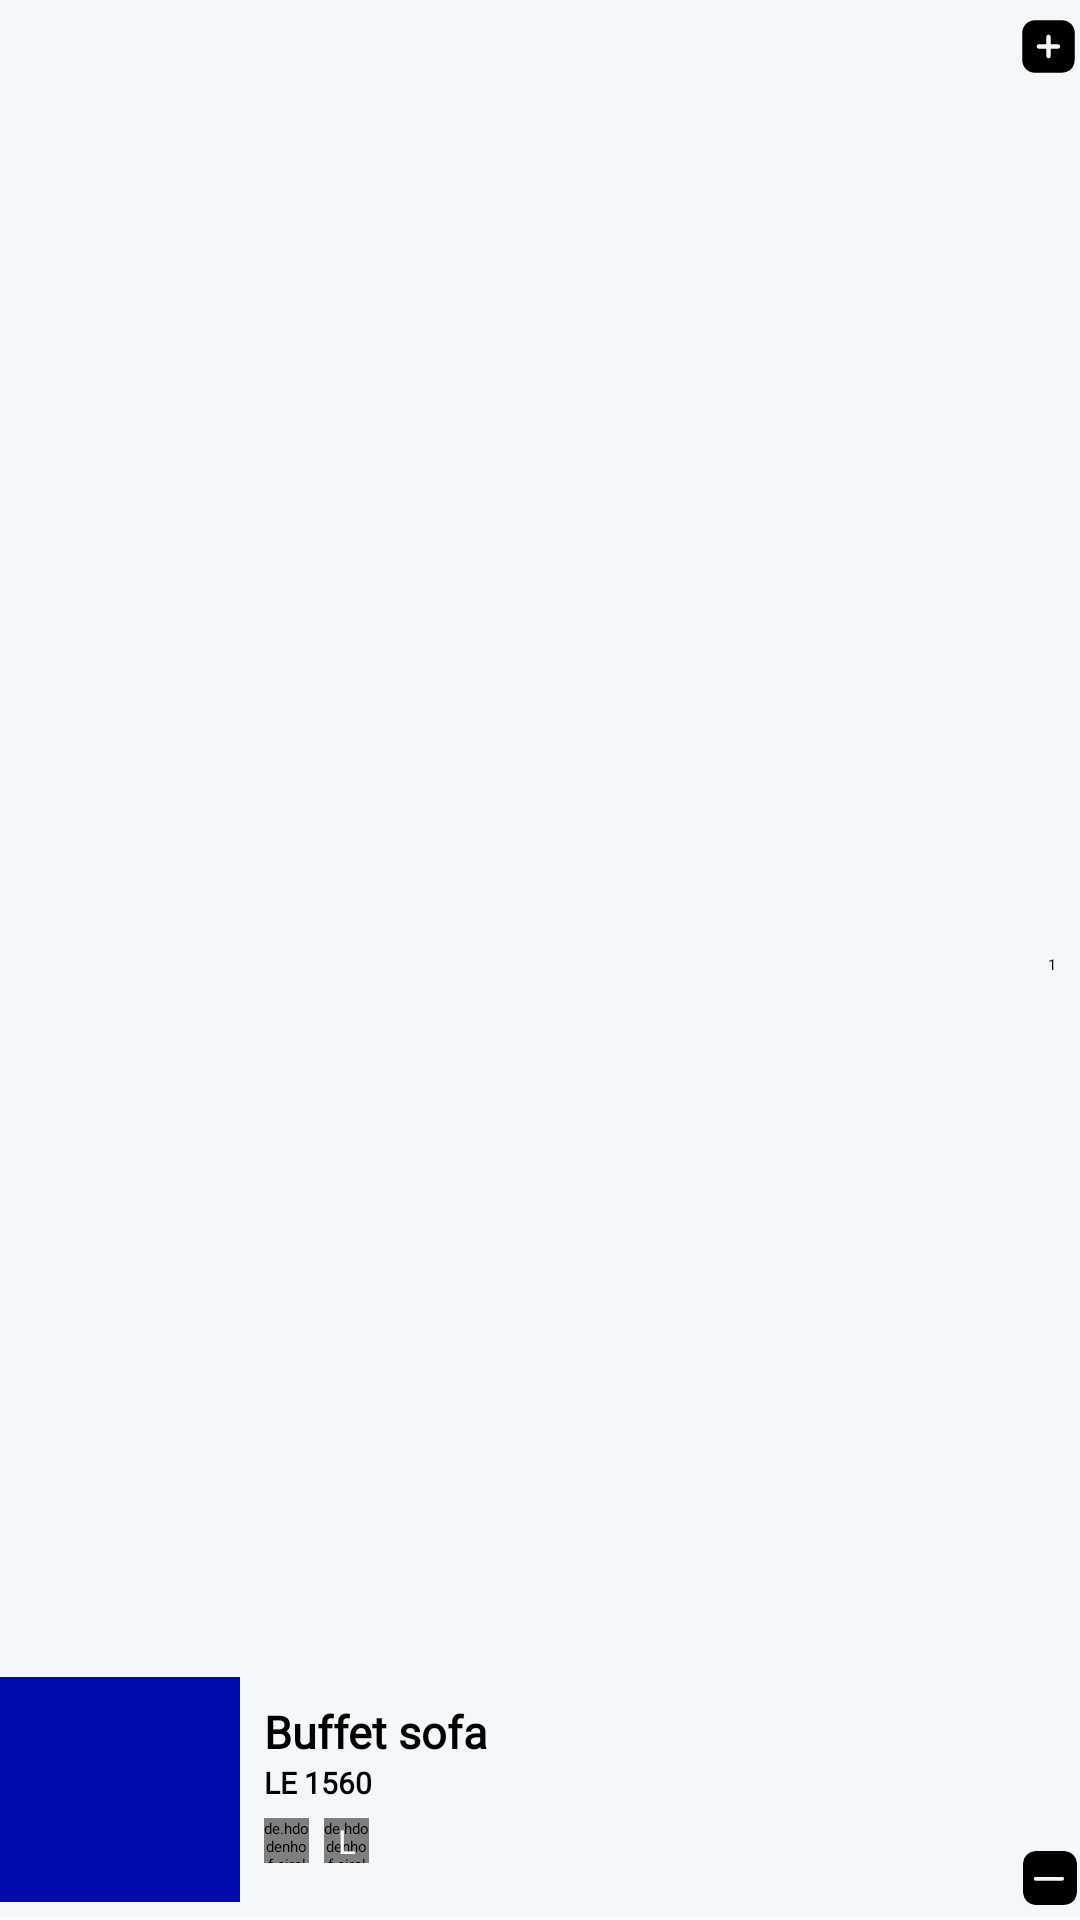

Named icons in this screenshot (1080px×1920px) and their bounding boxes, bbox(x1, y1, x2, y2):
minus: bbox(1023, 1851, 1077, 1905)
plus: bbox(1022, 20, 1075, 73)
